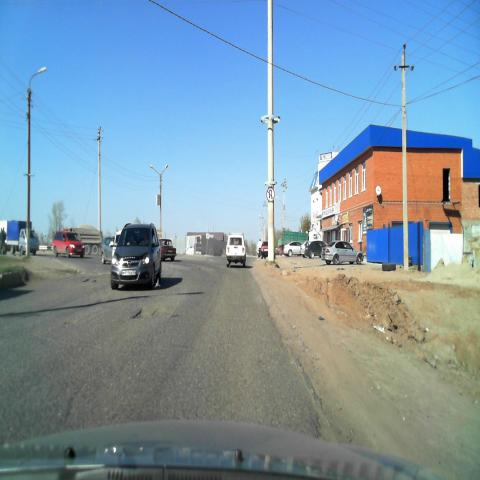3_19: (265, 187, 275, 202)
